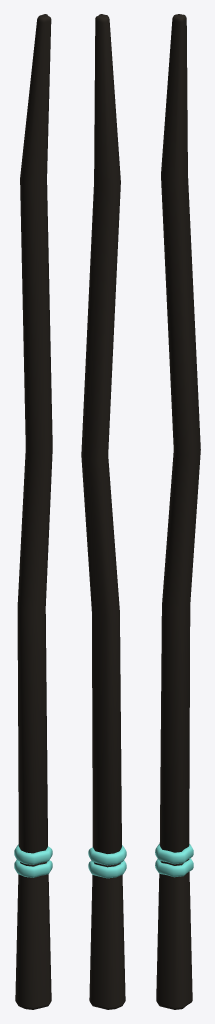
File: wand-base.FBX
3 views of the same model, side by side, from view 1: azimuth 30°, elevation 25°; view 2: azimuth 150°, elevation 25°; view 3: azimuth 330°, elevation 25° (orthographic).
Parts seen in each view (by area): view 1: wand; view 2: wand; view 3: wand.
Boxes of the visible parts, left/top/right/bottom form: wand: left=14, top=14, right=52, bottom=1009; wand: left=81, top=14, right=126, bottom=1009; wand: left=155, top=14, right=200, bottom=1009.
Size of the model in its own units: 0.065 by 1.7 by 0.0558.
